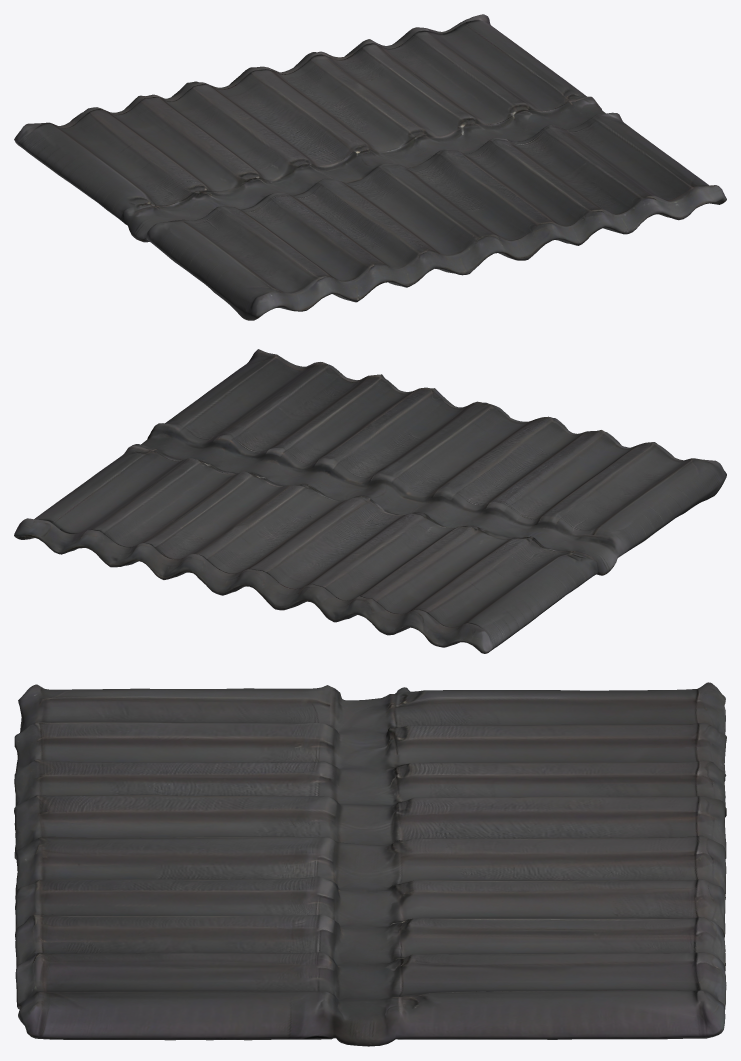
3 renders of one model, top to bottom at view 1: azimuth 30°, elevation 25°; view 2: azimuth 150°, elevation 25°; view 3: azimuth 270°, elevation 25°, orthographic. The views are drawn at different scales.
Size of the model in its own units: 2.01 by 0.1346 by 1.8.
1 material, 1 textured.
